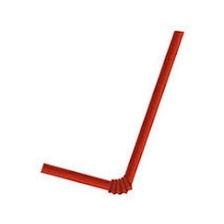drinking_straw: (35, 25, 197, 202)
